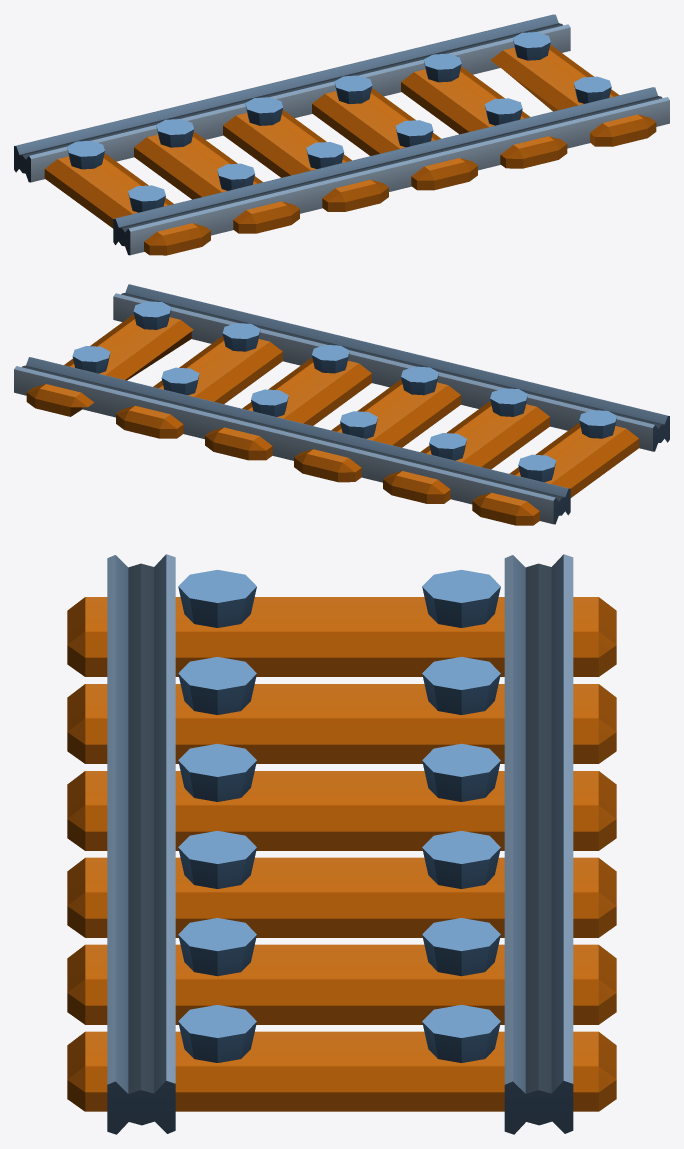
File: 2Br-DuzRay.fbx
3 views of the same model, one above another, from view 1: azimuth 30°, elevation 25°; view 2: azimuth 150°, elevation 25°; view 3: azimuth 270°, elevation 25° (orthographic). The views are drawn at different scales.
Parts seen in each view (by area): view 1: 2Br-DuzRay; view 2: 2Br-DuzRay; view 3: 2Br-DuzRay.
Part boxes in pixels (x1,y1,x2,y2): 2Br-DuzRay: [14, 14, 669, 255]; 2Br-DuzRay: [14, 284, 669, 525]; 2Br-DuzRay: [67, 554, 616, 1134].
Bounding box in the file's own units: 400 × 25.32 × 176.
